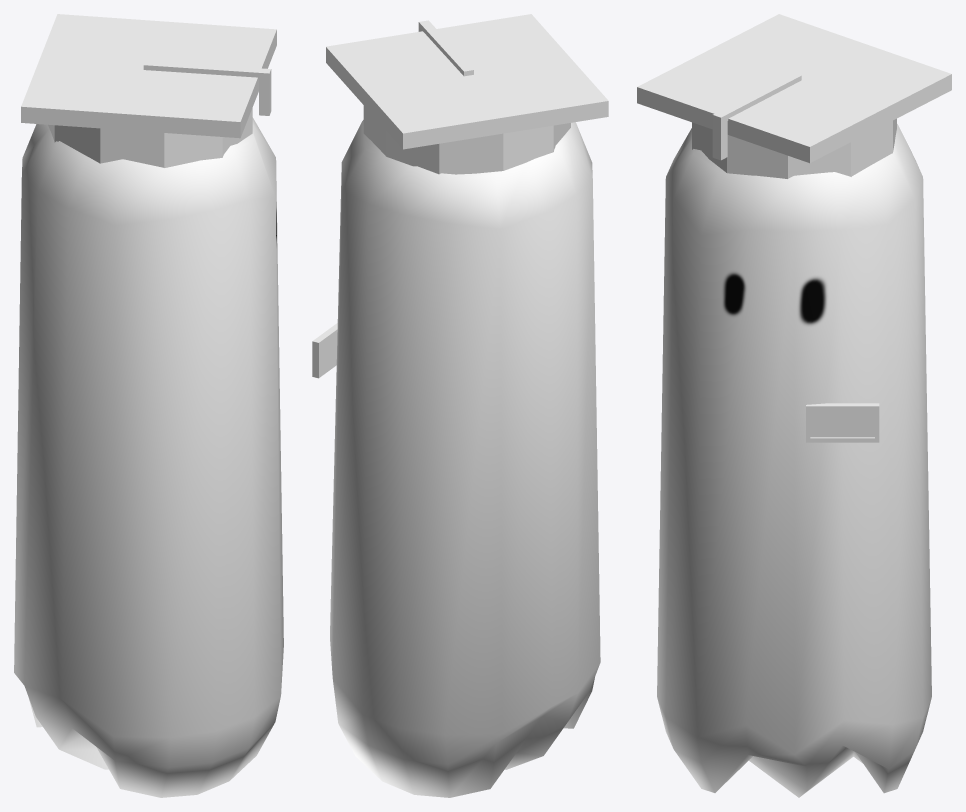
File: GhostProfesor.fbx
3 views of the same model, side by side, from view 1: azimuth 30°, elevation 25°; view 2: azimuth 150°, elevation 25°; view 3: azimuth 270°, elevation 25° (orthographic).
Visible parts, largest first — view 1: Ghost, Hat; view 2: Ghost, Hat, NameTag; view 3: Ghost, Hat, NameTag.
Boxes of the visible parts, x1,y1,x2,y2 form: Ghost: [14, 117, 283, 797]; Hat: [21, 14, 276, 167]; Ghost: [330, 120, 600, 797]; Hat: [326, 14, 608, 174]; NameTag: [312, 323, 337, 378]; Ghost: [657, 124, 931, 797]; Hat: [637, 14, 951, 178]; NameTag: [806, 403, 879, 442].
Size of the model in its own units: 458 by 1139 by 458.
